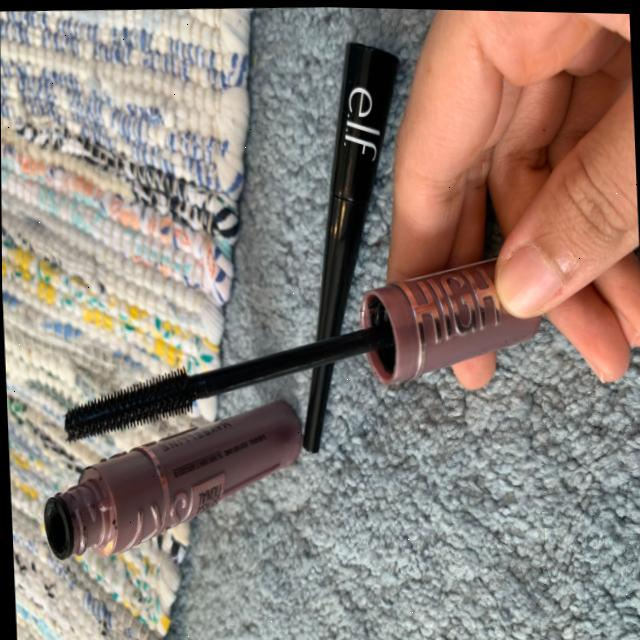eye liner: (262, 19, 417, 463)
mascara: (45, 222, 556, 483), (44, 330, 281, 472)
